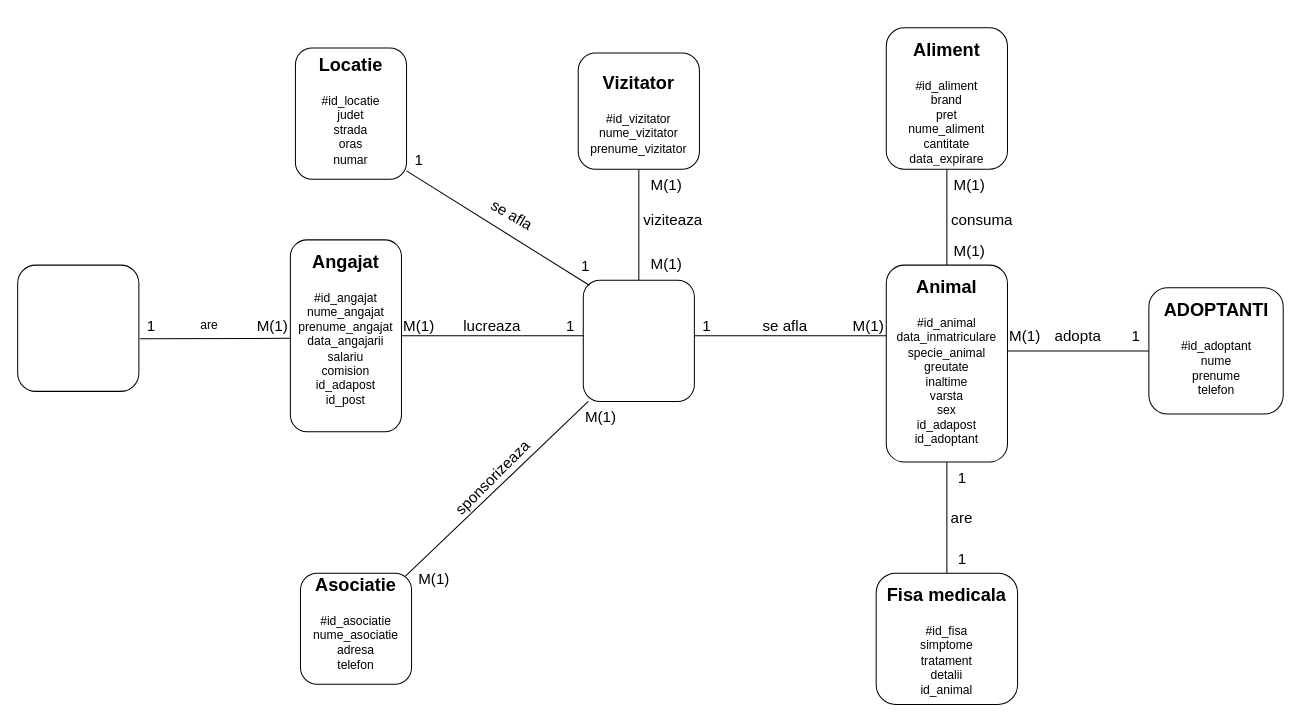
Some shapes in this 1301 by 722 pixel diagram are drawn without their labels. Here are the shapes that lost their labels. From the top down, the box of each, then its label:
(17, 264, 139, 391): Posturi #id_post denumire_post salariu_minim salariu_maxim
(582, 279, 694, 401): Adapost #id_adapost nume_adapost telefon_adapost id_locatie
